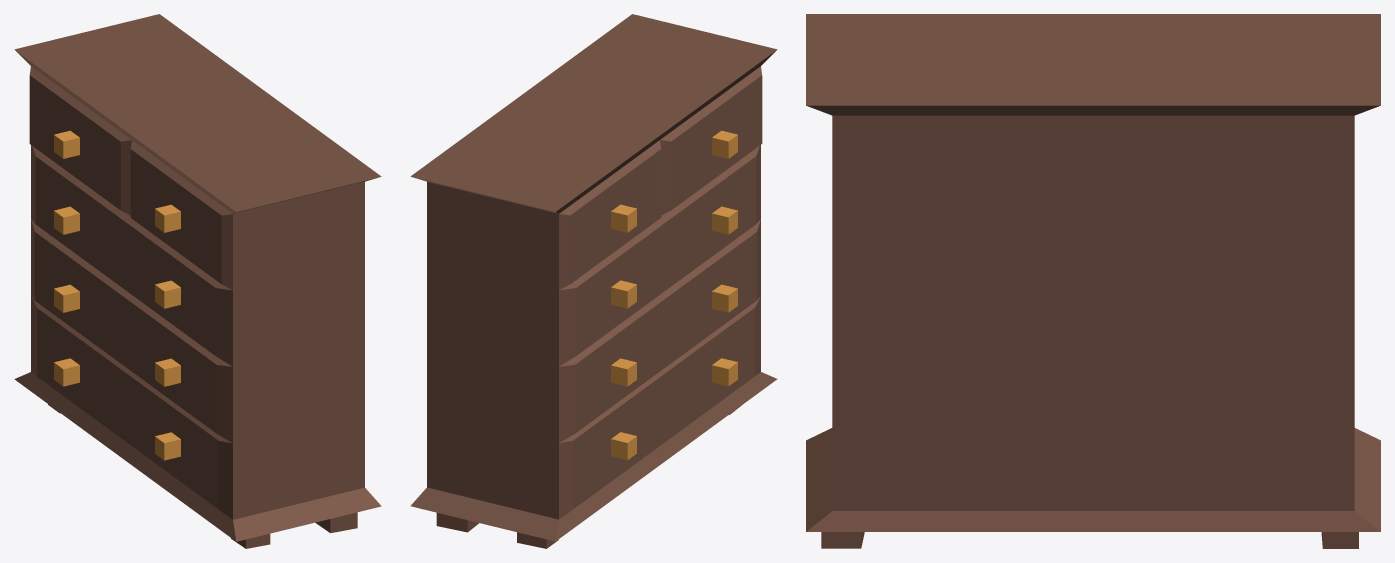
Rendered from dresser.glb.
3 renders of one model, left to right at view 1: azimuth 30°, elevation 25°; view 2: azimuth 150°, elevation 25°; view 3: azimuth 270°, elevation 25°, orthographic. The views are drawn at different scales.
Visible parts, largest first — view 1: group2017488825, group761691766, group1329925732, group1109916030, group2012545958, group1936279718, group187846874, group1613516297, group1271176609; view 2: group2017488825, group761691766, group2012545958, group1329925732, group1936279718, group1109916030, group1271176609, group187846874, group1613516297; view 3: group2017488825.
Part boxes in pixels (x1,y1,x2,y2): group2017488825: (14, 14, 381, 548); group761691766: (155, 204, 180, 232); group1329925732: (54, 206, 79, 234); group1109916030: (54, 284, 79, 312); group2012545958: (54, 358, 79, 386); group1936279718: (54, 130, 79, 158); group187846874: (155, 358, 180, 386); group1613516297: (155, 280, 180, 308); group1271176609: (155, 432, 180, 460); group2017488825: (410, 14, 777, 548); group761691766: (712, 130, 737, 158); group2012545958: (611, 432, 636, 460); group1329925732: (611, 280, 636, 308); group1936279718: (611, 204, 636, 232); group1109916030: (611, 358, 636, 386); group1271176609: (712, 358, 737, 386); group187846874: (712, 284, 737, 312); group1613516297: (712, 206, 737, 234); group2017488825: (806, 14, 1380, 548).
Size of the model in its own units: 0.7798 by 1.62 by 1.86.
